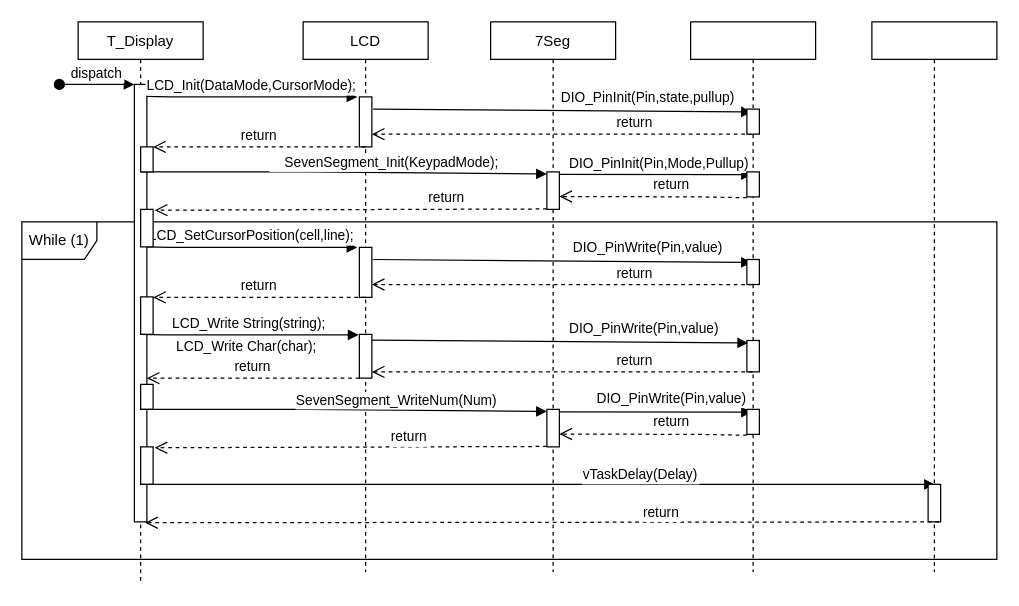
Image size: 1019x606. Some labels were removed from this diagram. The shapes that lost their labels are listed below. From the top down, each one's box as (x1, y1, x2, y2) in pixels, then its label:
(689, 21, 816, 572): DIO
(871, 21, 997, 572): FreeRTOS
